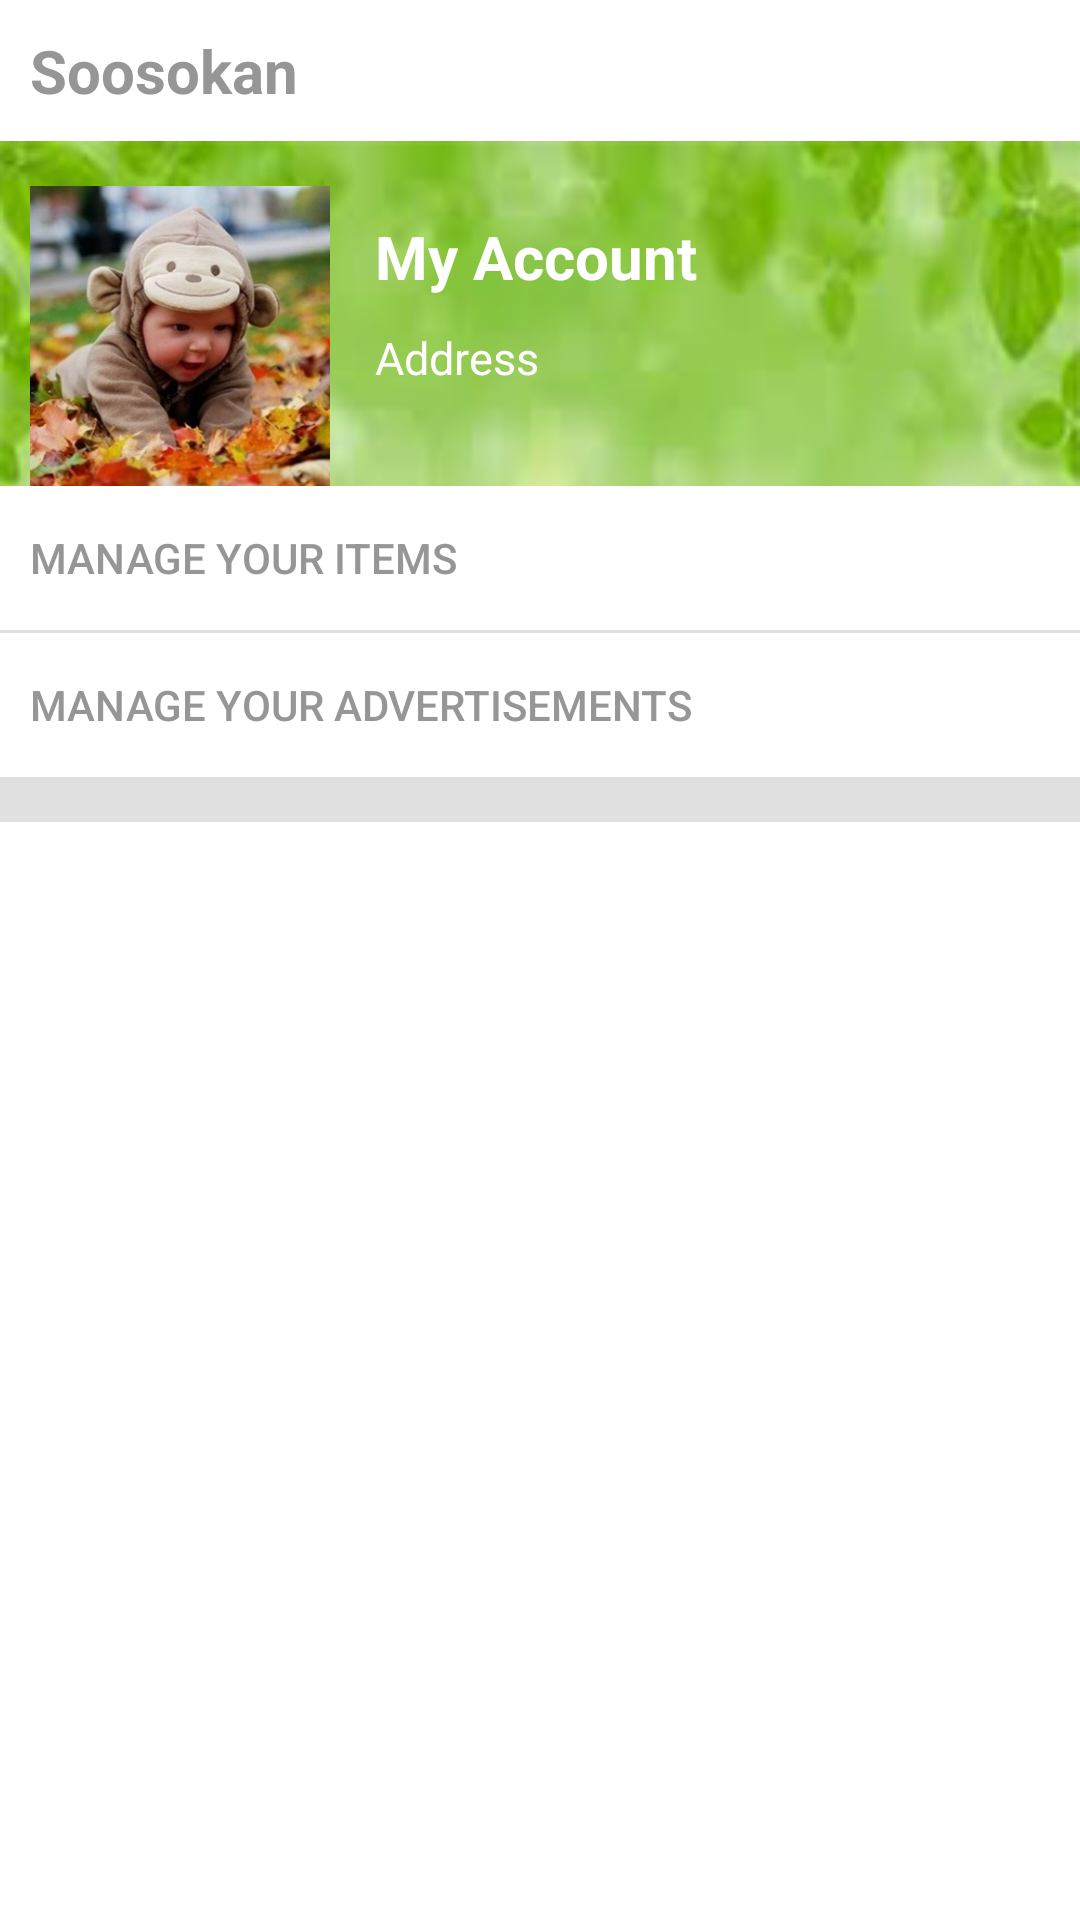

Icons on this 1080w x 1920h Android screen, each with the point to tap as point (x, y):
userimage: point (180, 336)
